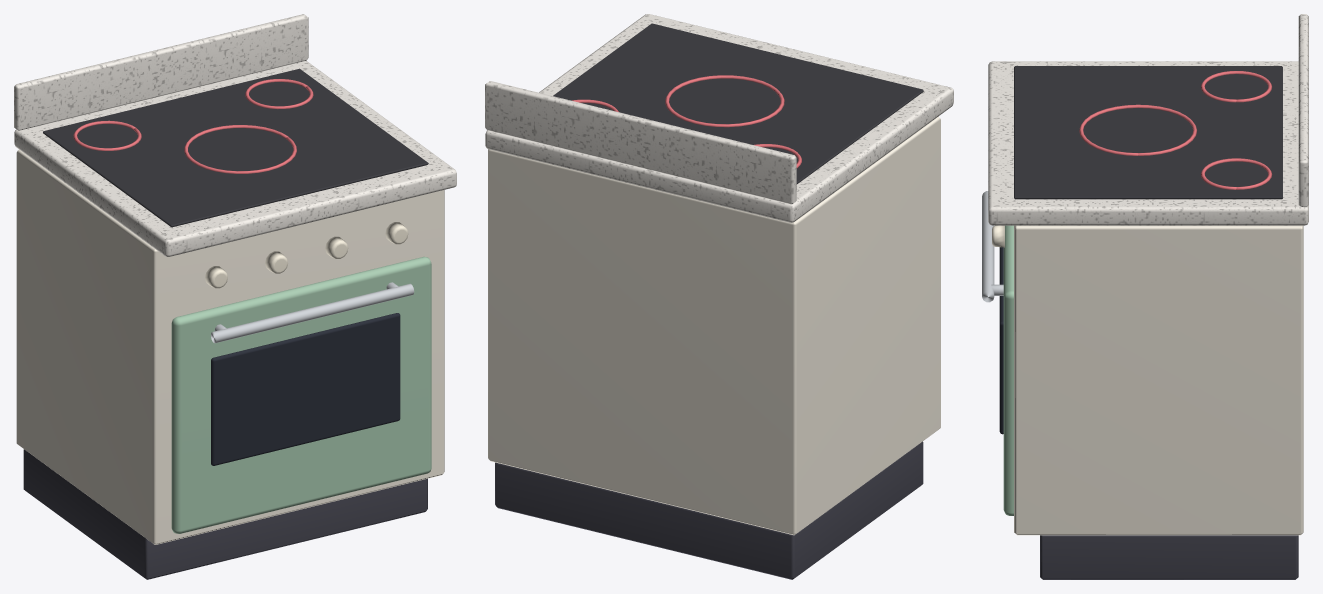
File: prop_stove.glb
3 views of the same model, side by side, from view 1: azimuth 30°, elevation 25°; view 2: azimuth 150°, elevation 25°; view 3: azimuth 270°, elevation 25° (orthographic). The views are drawn at different scales.
Visible parts, largest first — view 1: prop_stove; view 2: prop_stove; view 3: prop_stove.
Part boxes in pixels (x1,y1,x2,y2): prop_stove: (14,14,456,579); prop_stove: (485,14,953,579); prop_stove: (982,14,1308,579).
Bounding box in the file's own units: 0.85 × 1.12 × 0.79.
9 materials, 1 textured.
